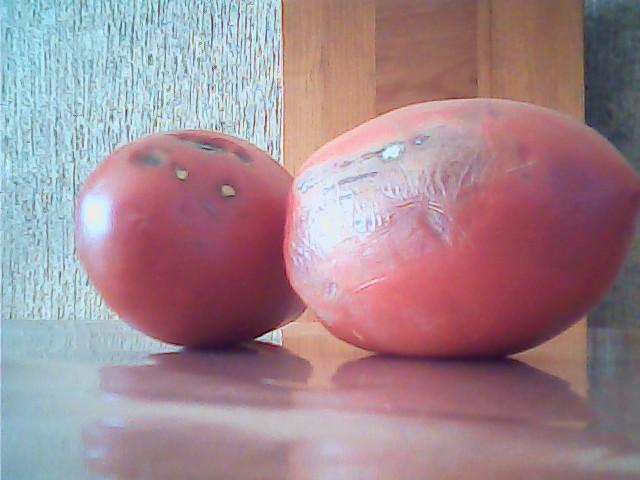defectuoso: (284, 95, 638, 361), (76, 127, 310, 350)
